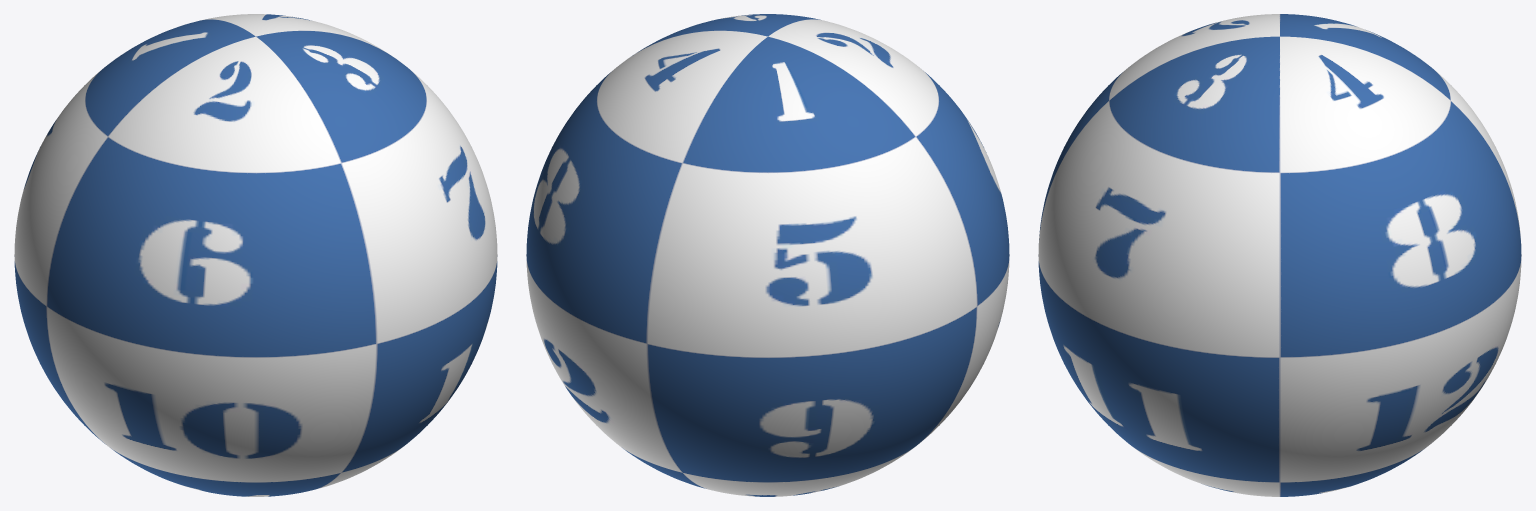
3 renders of one model, left to right at view 1: azimuth 30°, elevation 25°; view 2: azimuth 150°, elevation 25°; view 3: azimuth 270°, elevation 25°, orthographic.
Visible parts, largest first — view 1: SM_e_Useful_Sphere001; view 2: SM_e_Useful_Sphere001; view 3: SM_e_Useful_Sphere001.
Boxes of the visible parts, x1,y1,x2,y2 form: SM_e_Useful_Sphere001: (14, 14, 497, 496); SM_e_Useful_Sphere001: (526, 14, 1009, 496); SM_e_Useful_Sphere001: (1038, 14, 1521, 496).
Bounding box in the file's own units: 20 × 20 × 20.
